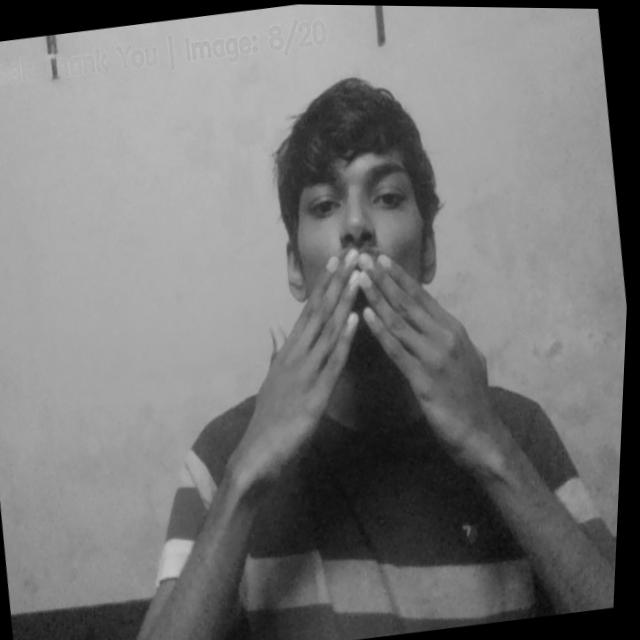Thank You: (229, 225, 522, 469)
